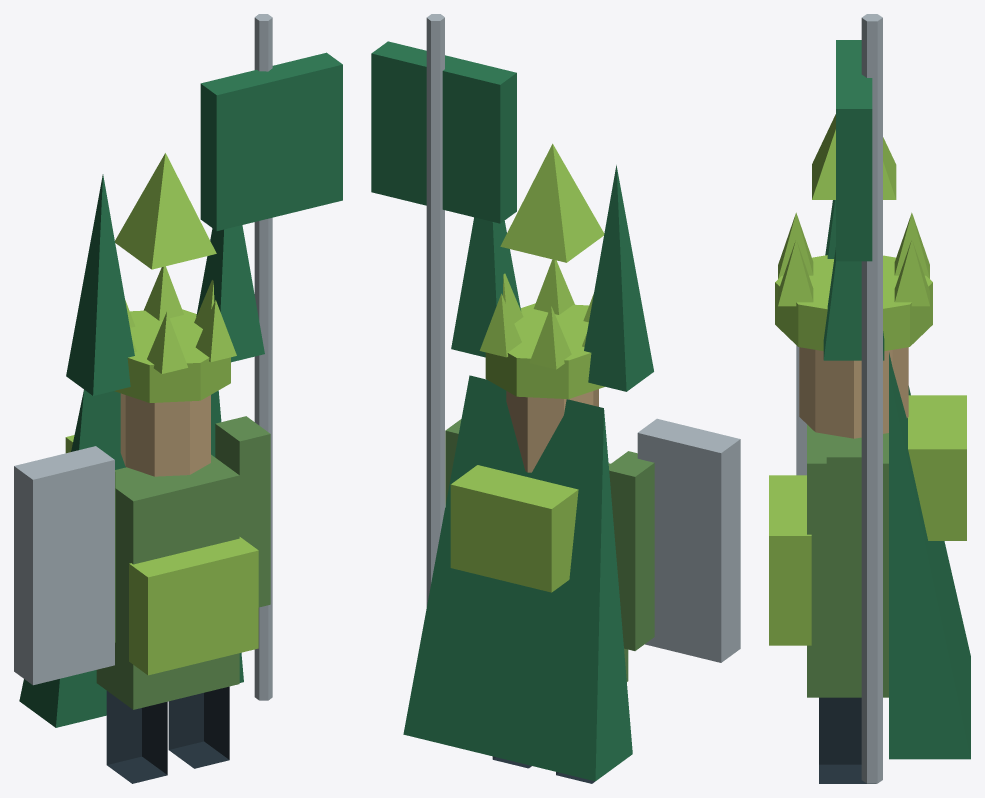
Rendered from hero.obj.
3 renders of one model, left to right at view 1: azimuth 30°, elevation 25°; view 2: azimuth 150°, elevation 25°; view 3: azimuth 270°, elevation 25°, orthographic. The views are drawn at different scales.
Visible parts, largest first — view 1: hero; view 2: hero; view 3: hero.
Part boxes in pixels (x1,y1,x2,y2): hero: (14,14,342,783); hero: (371,14,740,783); hero: (769,14,970,783).
Size of the model in its own units: 1.26 by 2.61 by 0.5985.
